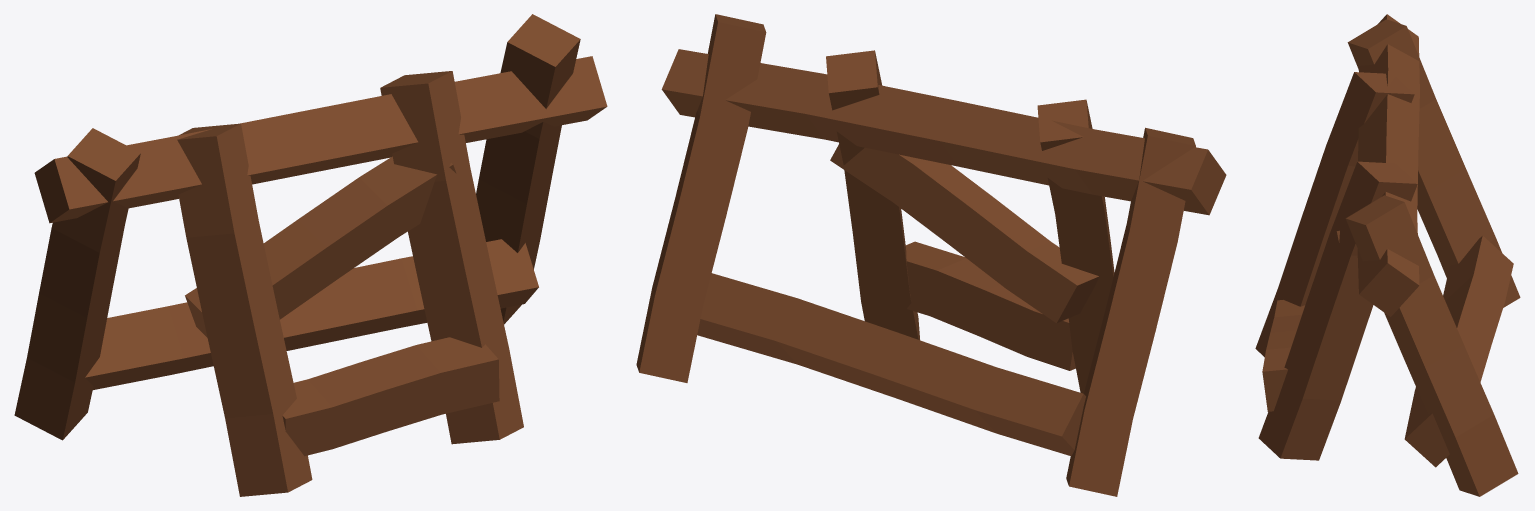
Rendered from fishing_rack.fbx.
3 renders of one model, left to right at view 1: azimuth 30°, elevation 25°; view 2: azimuth 150°, elevation 25°; view 3: azimuth 270°, elevation 25°, orthographic. The views are drawn at different scales.
Parts seen in each view (by area): view 1: Cube_4, Cube_1, Cube_5, Cube_13, Cube_2, Cube_7, Cube_6, Cube; view 2: Cube_1, Cube_2, Cube, Cube_13, Cube_6, Cube_5, Cube_7, Cube_4; view 3: Cube, Cube_5, Cube_13, Cube_4, Cube_1, Cube_2, Cube_7.
Part boxes in pixels (x1,y1,x2,y2): Cube_4: (177,123,312,496); Cube_1: (34,56,607,223); Cube_5: (380,71,523,444); Cube_13: (14,128,140,440); Cube_2: (85,239,538,389); Cube_7: (282,337,499,456); Cube_6: (185,156,456,337); Cube: (476,14,580,324); Cube_1: (661,49,1226,215); Cube_2: (697,273,1085,455); Cube: (636,14,766,382); Cube_13: (1066,127,1195,496); Cube_6: (830,144,1099,323); Cube_5: (826,50,919,340); Cube_7: (905,241,1075,370); Cube_4: (1037,99,1114,393); Cube: (1345,195,1518,496); Cube_5: (1258,161,1417,460); Cube_13: (1347,19,1520,307); Cube_4: (1255,72,1414,357); Cube_1: (1357,14,1419,316); Cube_2: (1404,235,1513,467); Cube_7: (1262,300,1304,411).
Bounding box in the file's own units: 138 × 86.18 × 68.33.
